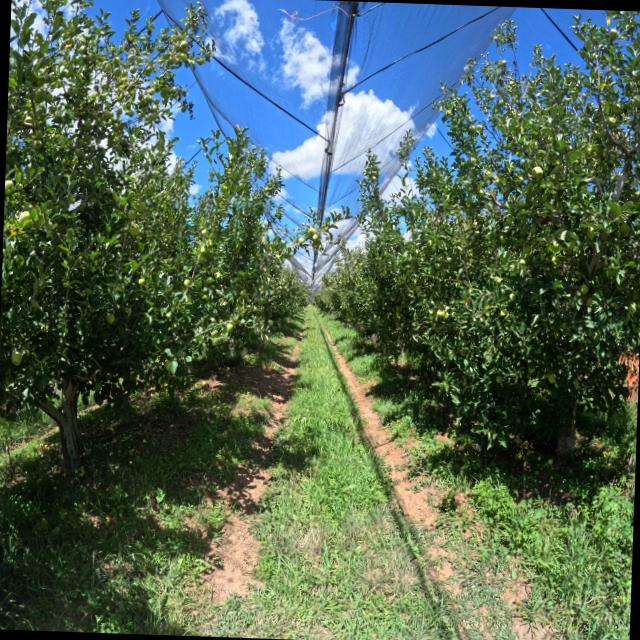-FireBlight-: (617, 349, 639, 417)
